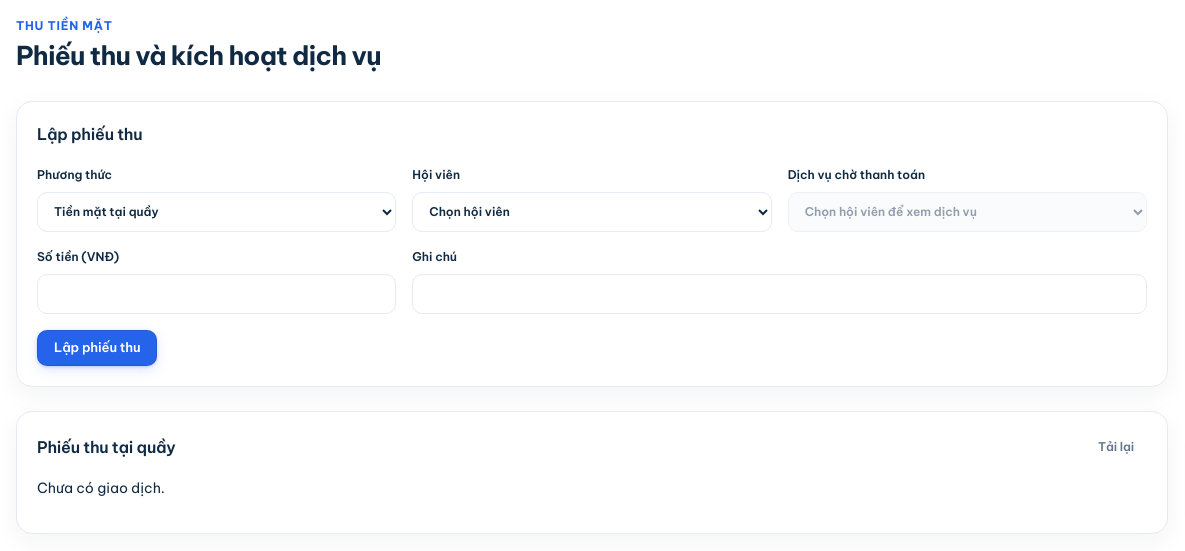
Test case: PaymentsPage › clears the previous member's service and price while the next member loads
Select "Bình — HV-01" in the dropdown labelled "Hội viên": (592, 212) [412,192,772,232]
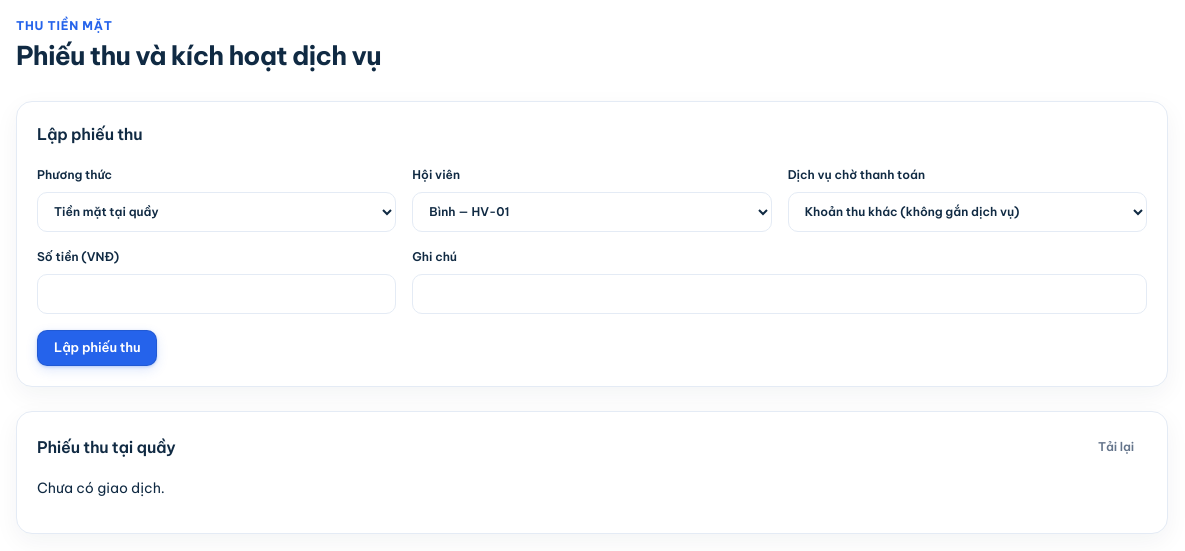
Select "Gold — 500.000 ₫" in the dropdown labelled "Dịch vụ chờ thanh toán": (967, 212) [788,192,1147,232]
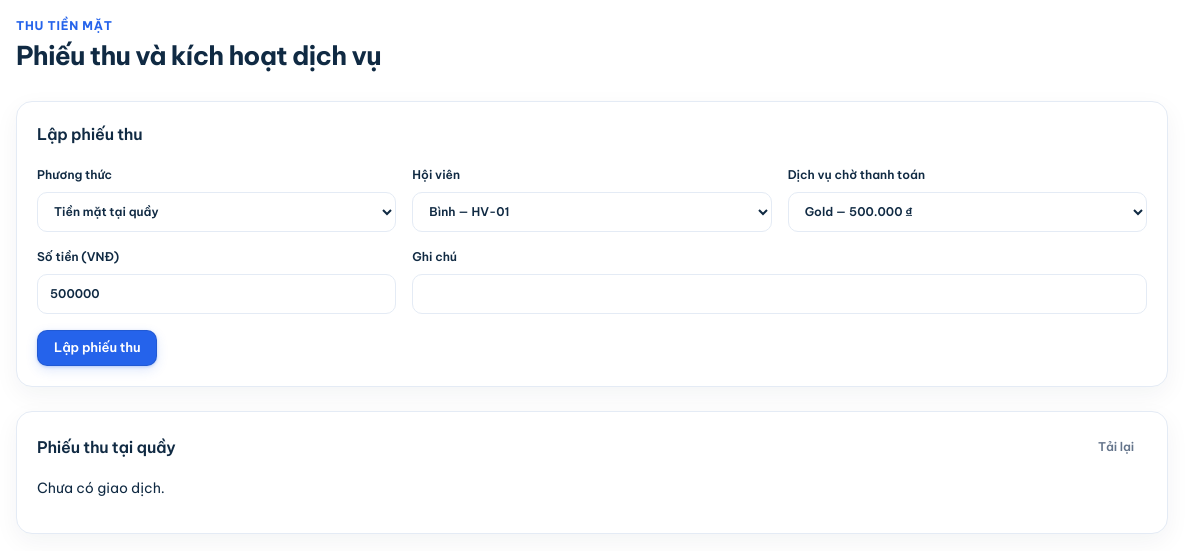
Select "An — HV-02" in the dropdown labelled "Hội viên": (592, 212) [412,192,772,232]
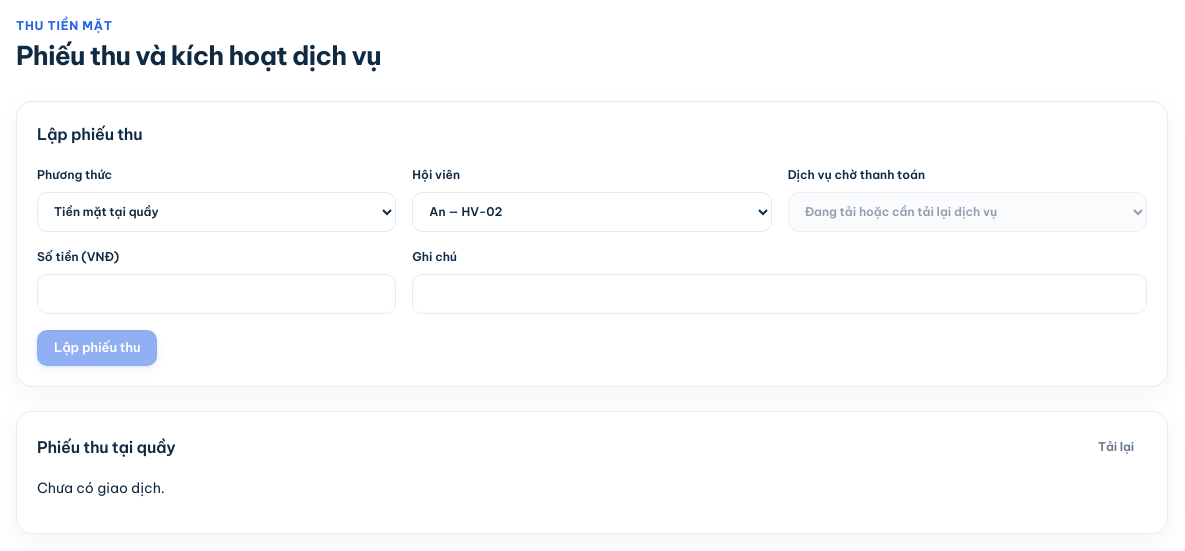
Expected: the option "Gold" is not shown
Expected: the number field labelled "Số tiền (VNĐ)" is not empty, [37,274,396,314]
Expected: the button "Lập phiếu thu" is disabled, [37,330,157,366]
